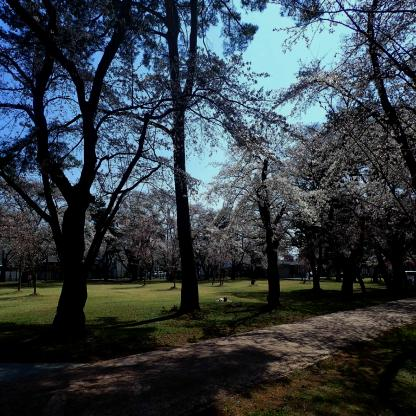Someiyoshino: (2, 4, 414, 265)
